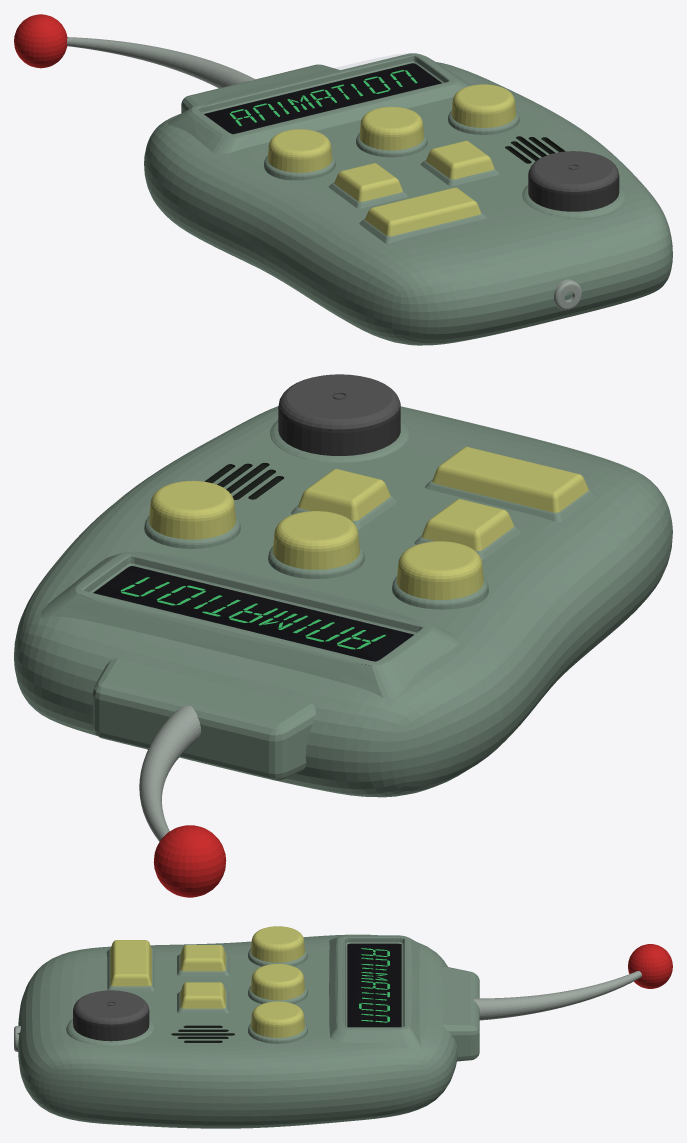
Rendered from Remote.obj.
The picture shows the model from 3 angles, top to bottom: view 1: azimuth 30°, elevation 25°; view 2: azimuth 150°, elevation 25°; view 3: azimuth 270°, elevation 25°; orthographic projection. The views are drawn at different scales.
Parts seen in each view (by area): view 1: Remote_ChamferBo1; view 2: Remote_ChamferBo1; view 3: Remote_ChamferBo1.
Boxes of the visible parts, x1,y1,x2,y2 form: Remote_ChamferBo1: [14, 14, 672, 345]; Remote_ChamferBo1: [14, 374, 672, 897]; Remote_ChamferBo1: [14, 926, 672, 1128].
Bounding box in the file's own units: 0.2696 × 0.0845 × 0.513.
